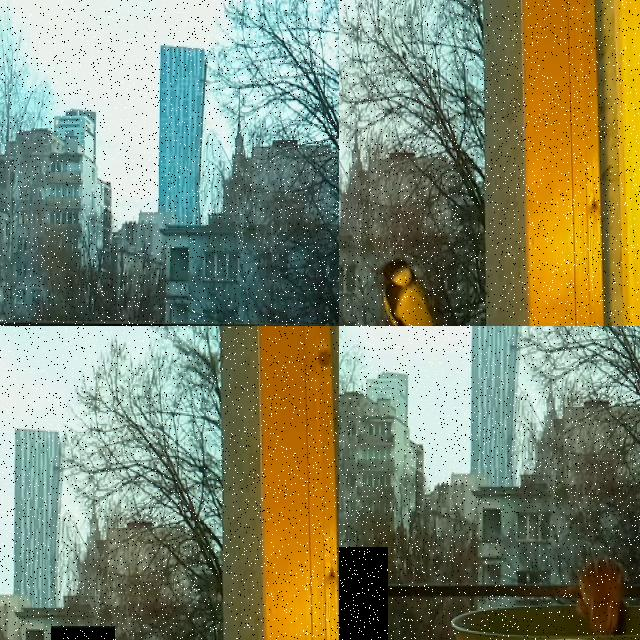Bogatka: (377, 254, 453, 326), (339, 547, 388, 640)
Wrobel: (571, 556, 628, 636)
